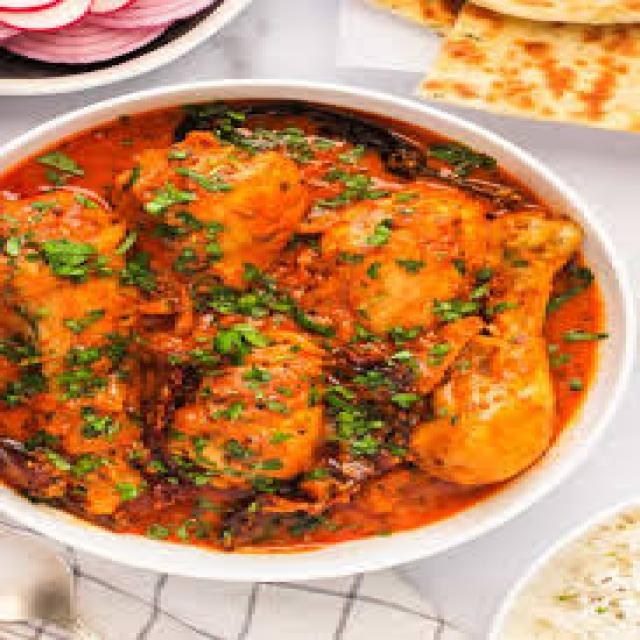Frango: (0, 93, 602, 556)
